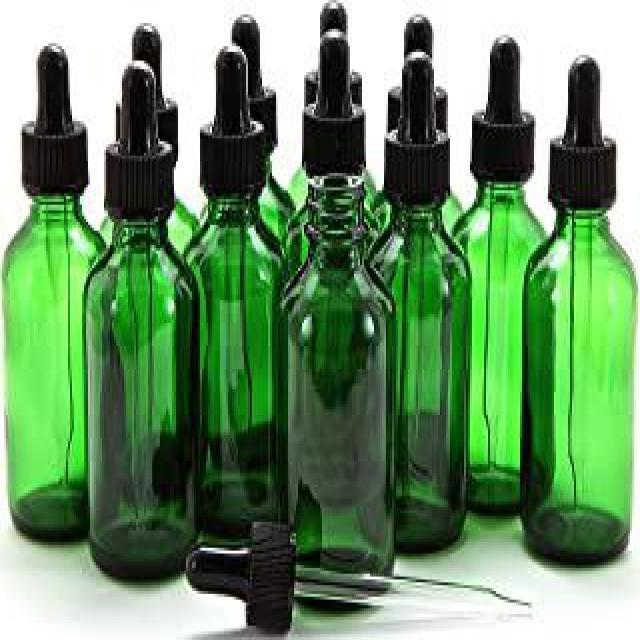glass: (516, 41, 640, 572)
